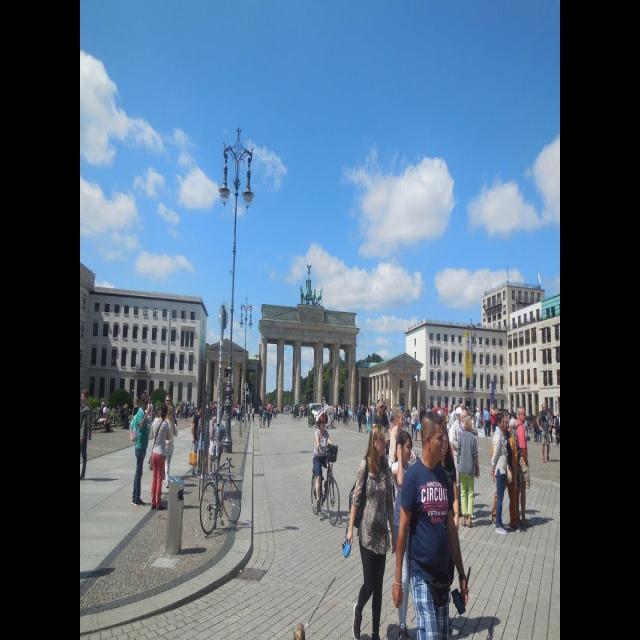body: (390, 409, 470, 640), (341, 421, 399, 639), (391, 429, 415, 640), (489, 411, 522, 535), (439, 421, 461, 588), (129, 391, 153, 508), (510, 404, 532, 530), (456, 414, 480, 529), (489, 411, 508, 536), (150, 402, 171, 511), (312, 413, 334, 515), (317, 400, 377, 434), (384, 401, 432, 441), (220, 398, 279, 429), (447, 407, 463, 518), (468, 402, 518, 437), (387, 406, 405, 503), (438, 404, 464, 466), (97, 395, 139, 433), (146, 394, 178, 437), (370, 398, 392, 456), (80, 388, 93, 482), (165, 405, 179, 489), (536, 402, 554, 463), (178, 396, 218, 422), (210, 414, 227, 469), (191, 406, 203, 476), (280, 400, 310, 422), (196, 408, 205, 480), (545, 407, 561, 446), (208, 415, 218, 477), (456, 409, 468, 444), (529, 410, 542, 442)
